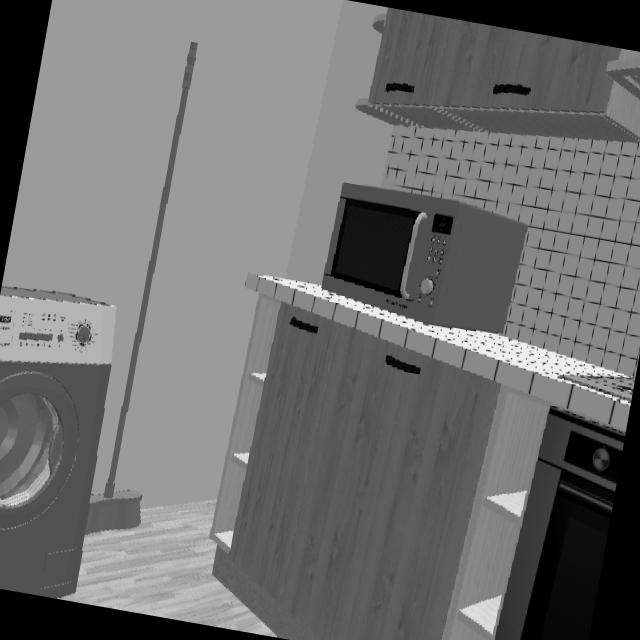cabinet: (211, 303, 510, 640), (357, 7, 640, 142)
countertop: (245, 274, 630, 432)
microwave: (325, 183, 524, 335)
oven: (494, 407, 624, 640)
stove: (562, 376, 635, 402)
